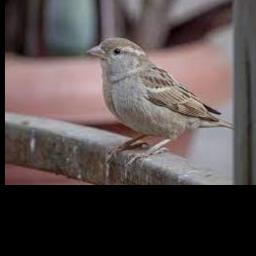Sparrow: (85, 37, 234, 164)
